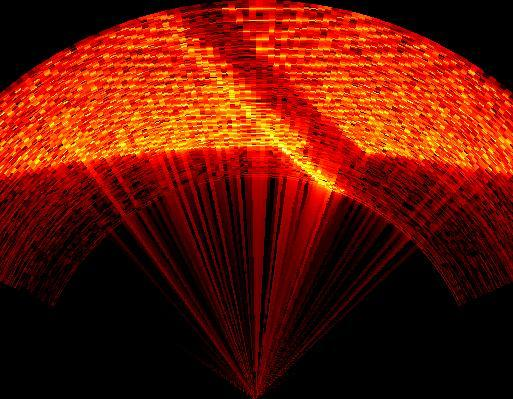pipe: (158, 9, 370, 196)
